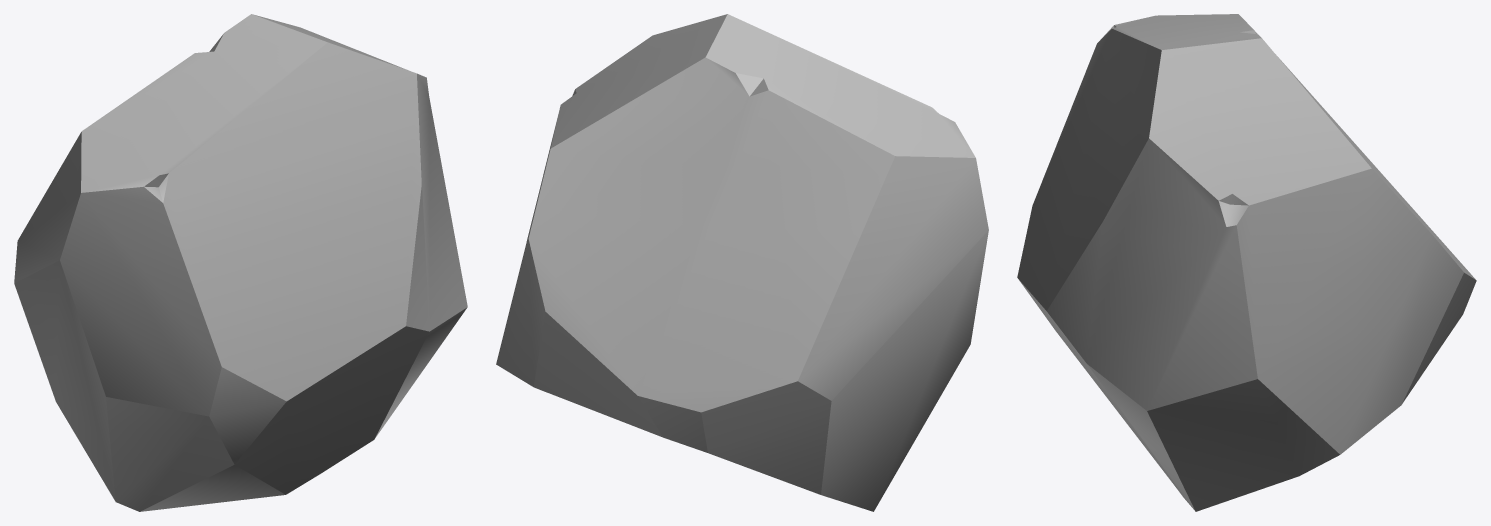
The model's file is SK_Rock_008.FBX.
The picture shows the model from 3 angles, left to right: view 1: azimuth 30°, elevation 25°; view 2: azimuth 150°, elevation 25°; view 3: azimuth 270°, elevation 25°; orthographic projection. The views are drawn at different scales.
Visible parts, largest first — view 1: SK_Rock_008; view 2: SK_Rock_008; view 3: SK_Rock_008.
Boxes of the visible parts, box(x1,y1,x2,y2) form: SK_Rock_008: box(14, 14, 467, 511); SK_Rock_008: box(496, 14, 988, 511); SK_Rock_008: box(1017, 14, 1476, 511).
Size of the model in its own units: 120 by 121 by 111.
Materials: 1 (1 with a texture image).
